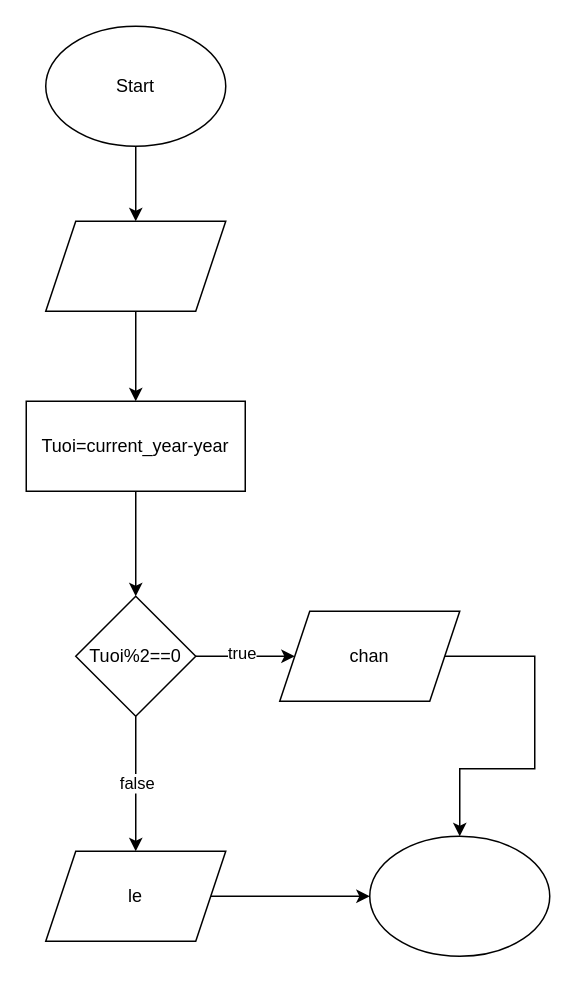
This 576x983 diagram has some shape labels left out. Here are the shapes that lost their labels. From the top down, the box of each, then its label:
(44, 220, 226, 311): year,current_year
(368, 835, 550, 956): End
